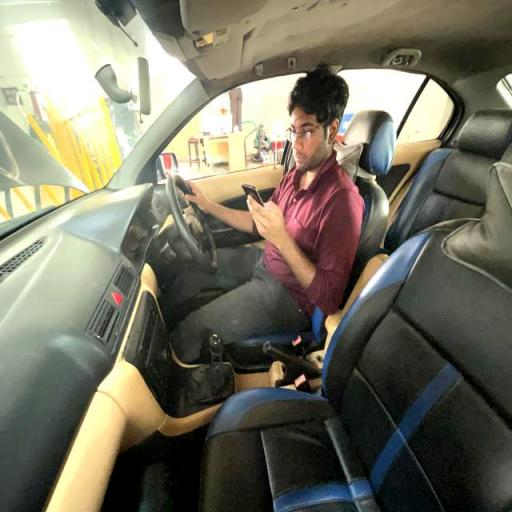Texting_on_phone: (184, 70, 363, 322)
